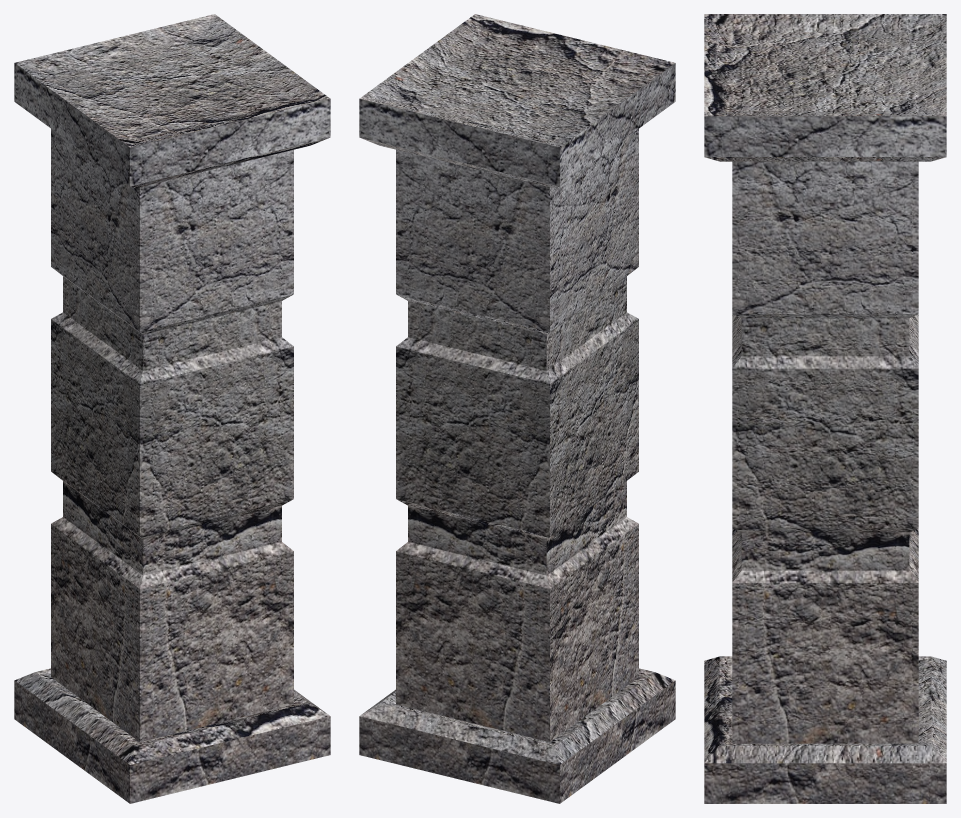
The model's file is Pillar.fbx.
The picture shows the model from 3 angles, left to right: view 1: azimuth 30°, elevation 25°; view 2: azimuth 150°, elevation 25°; view 3: azimuth 270°, elevation 25°; orthographic projection. The views are drawn at different scales.
Parts seen in each view (by area): view 1: Cube.023; view 2: Cube.023; view 3: Cube.023.
Boxes of the visible parts, bbox=[...] form: Cube.023: bbox=[14, 14, 330, 803]; Cube.023: bbox=[359, 14, 675, 803]; Cube.023: bbox=[704, 14, 946, 803].
Bounding box in the file's own units: 1040 × 3254 × 1040.
Materials: 1 (1 with a texture image).
